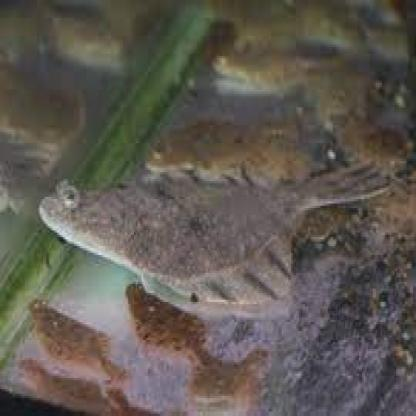flounder: (34, 170, 398, 319)
